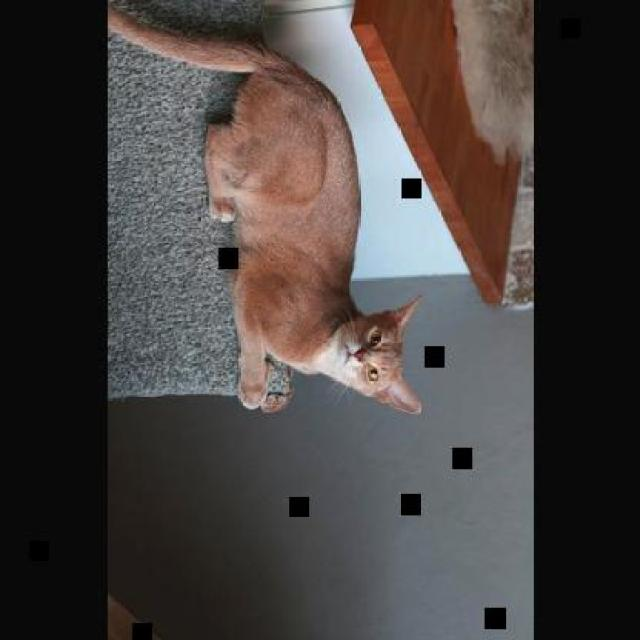unauthorized: (106, 0, 423, 415), (444, 0, 534, 168)
